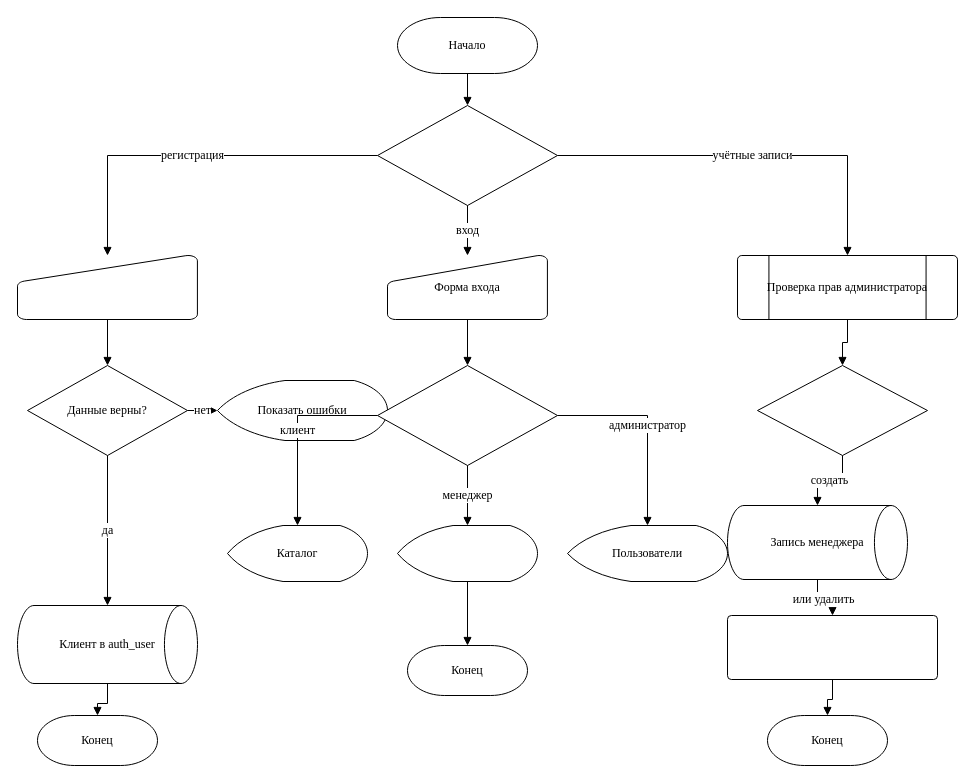
This 975x783 diagram has some shape labels left out. The centre of each missing label's shape, as x and y in pixels:
Заказы: [467,553]
Какая роль?: [467,415]
Какое действие?: [467,155]
Удалить клиента или менеджера: [832,647]
Форма регистрации: [107,287]
Что сделать?: [842,410]
